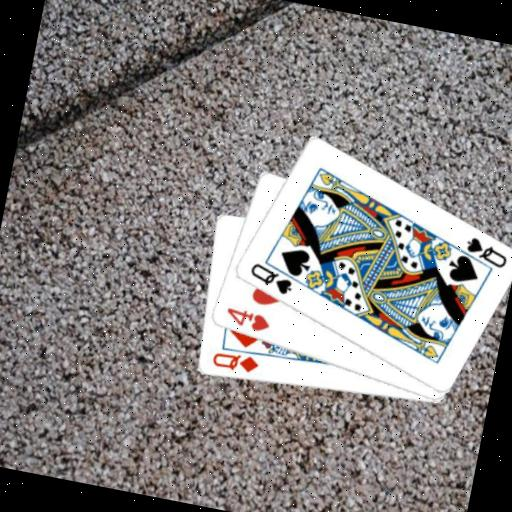4H: (221, 304, 273, 336)
QD: (208, 346, 262, 377)
QS: (243, 259, 297, 298), (460, 232, 512, 271)
